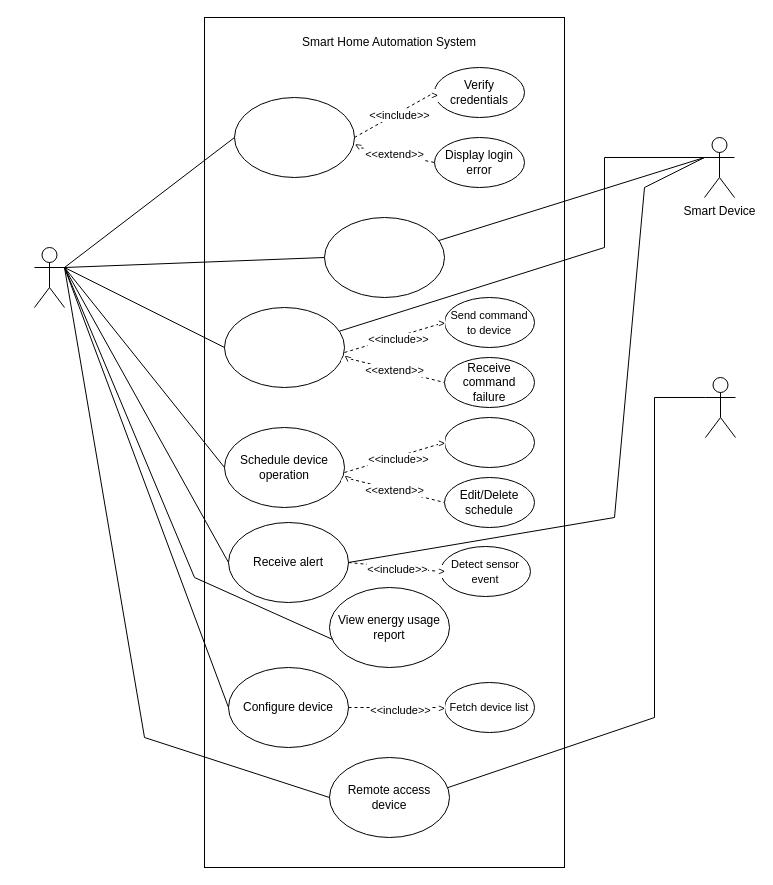
Image size: 773x885. Some labels were removed from this diagram. The centre of each missing label's shape, as x and y in pixels:
"Cloud Server" goes at pixel 720 407.
"Homeowner" goes at pixel 49 277.
"LOGIN" goes at pixel 294 137.
"Store schedule" goes at pixel 489 442.
"Turn on/off device" goes at pixel 284 347.
"View device status" goes at pixel 384 257.
